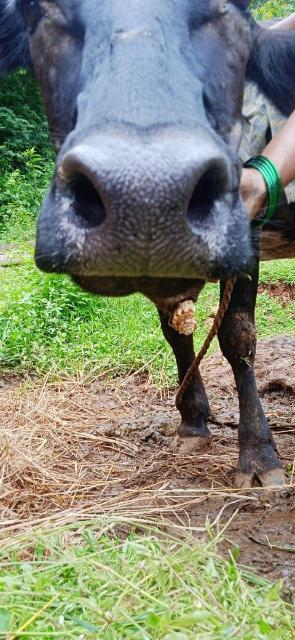Muzzle: (62, 150, 224, 274)
